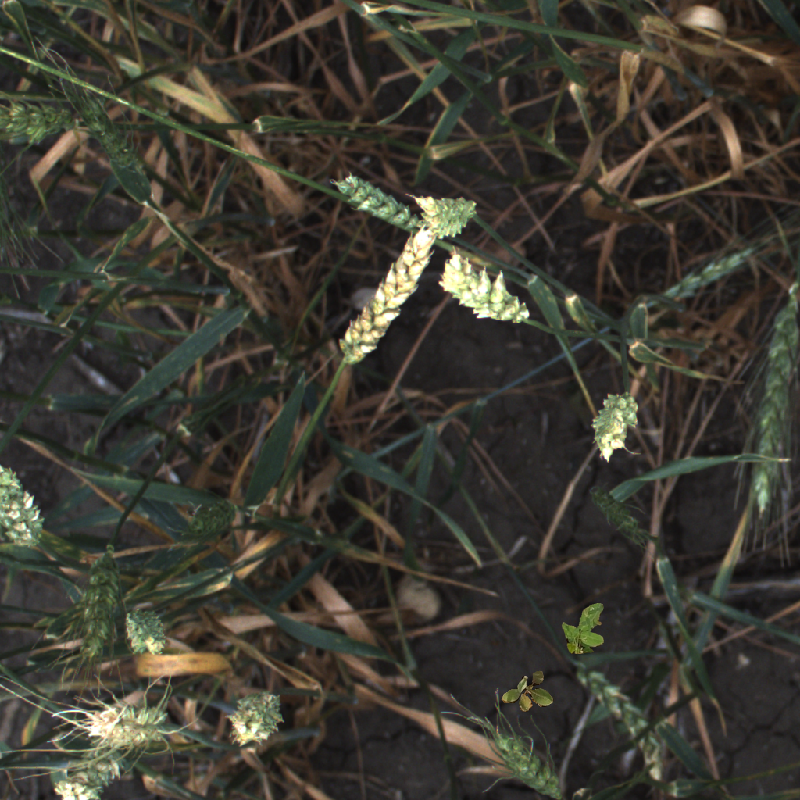spikelet: (334, 217, 441, 371), (571, 650, 682, 782), (739, 282, 800, 522), (318, 164, 448, 246), (623, 242, 762, 318), (432, 249, 544, 324), (66, 85, 145, 182), (573, 381, 650, 466), (479, 717, 565, 791), (74, 539, 124, 662), (33, 746, 142, 800), (584, 476, 657, 556), (1, 452, 53, 561), (75, 696, 175, 751), (1, 85, 71, 156), (405, 183, 485, 240), (229, 689, 289, 749), (183, 490, 241, 539), (125, 601, 168, 663)
weed: (499, 665, 563, 727), (562, 603, 604, 654)
